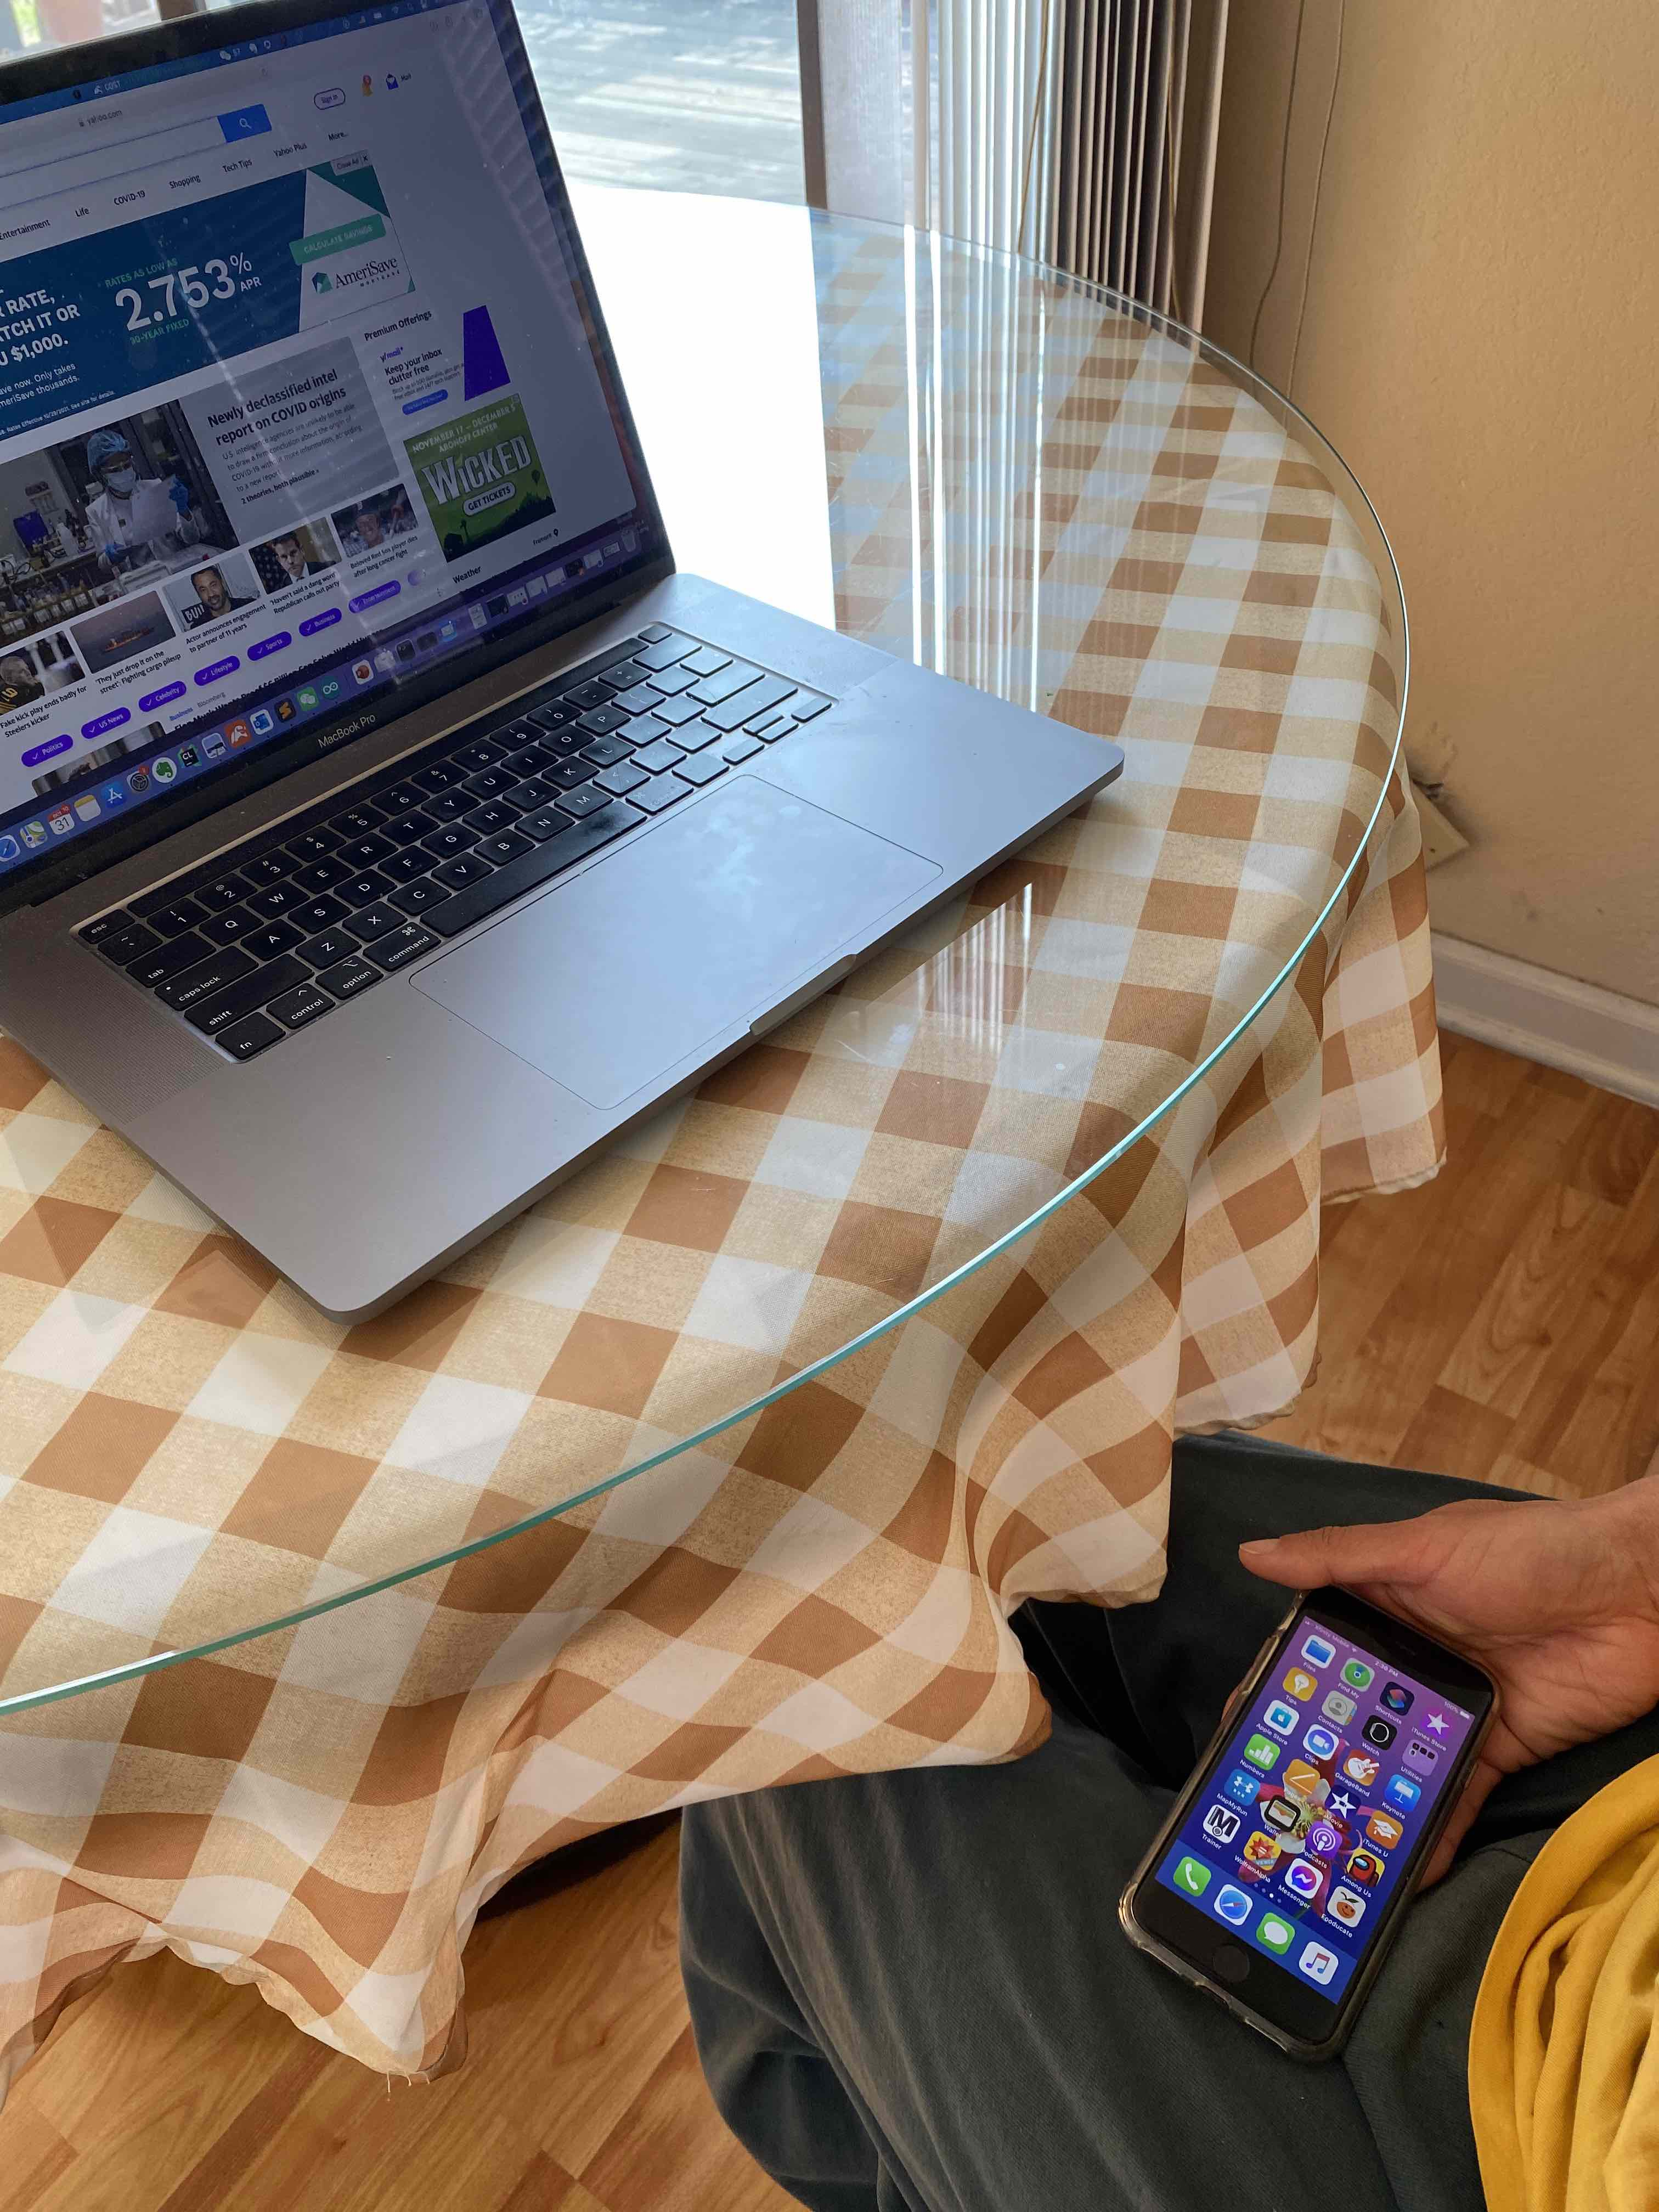Cell Phone: (1105, 1585, 1506, 2064)
